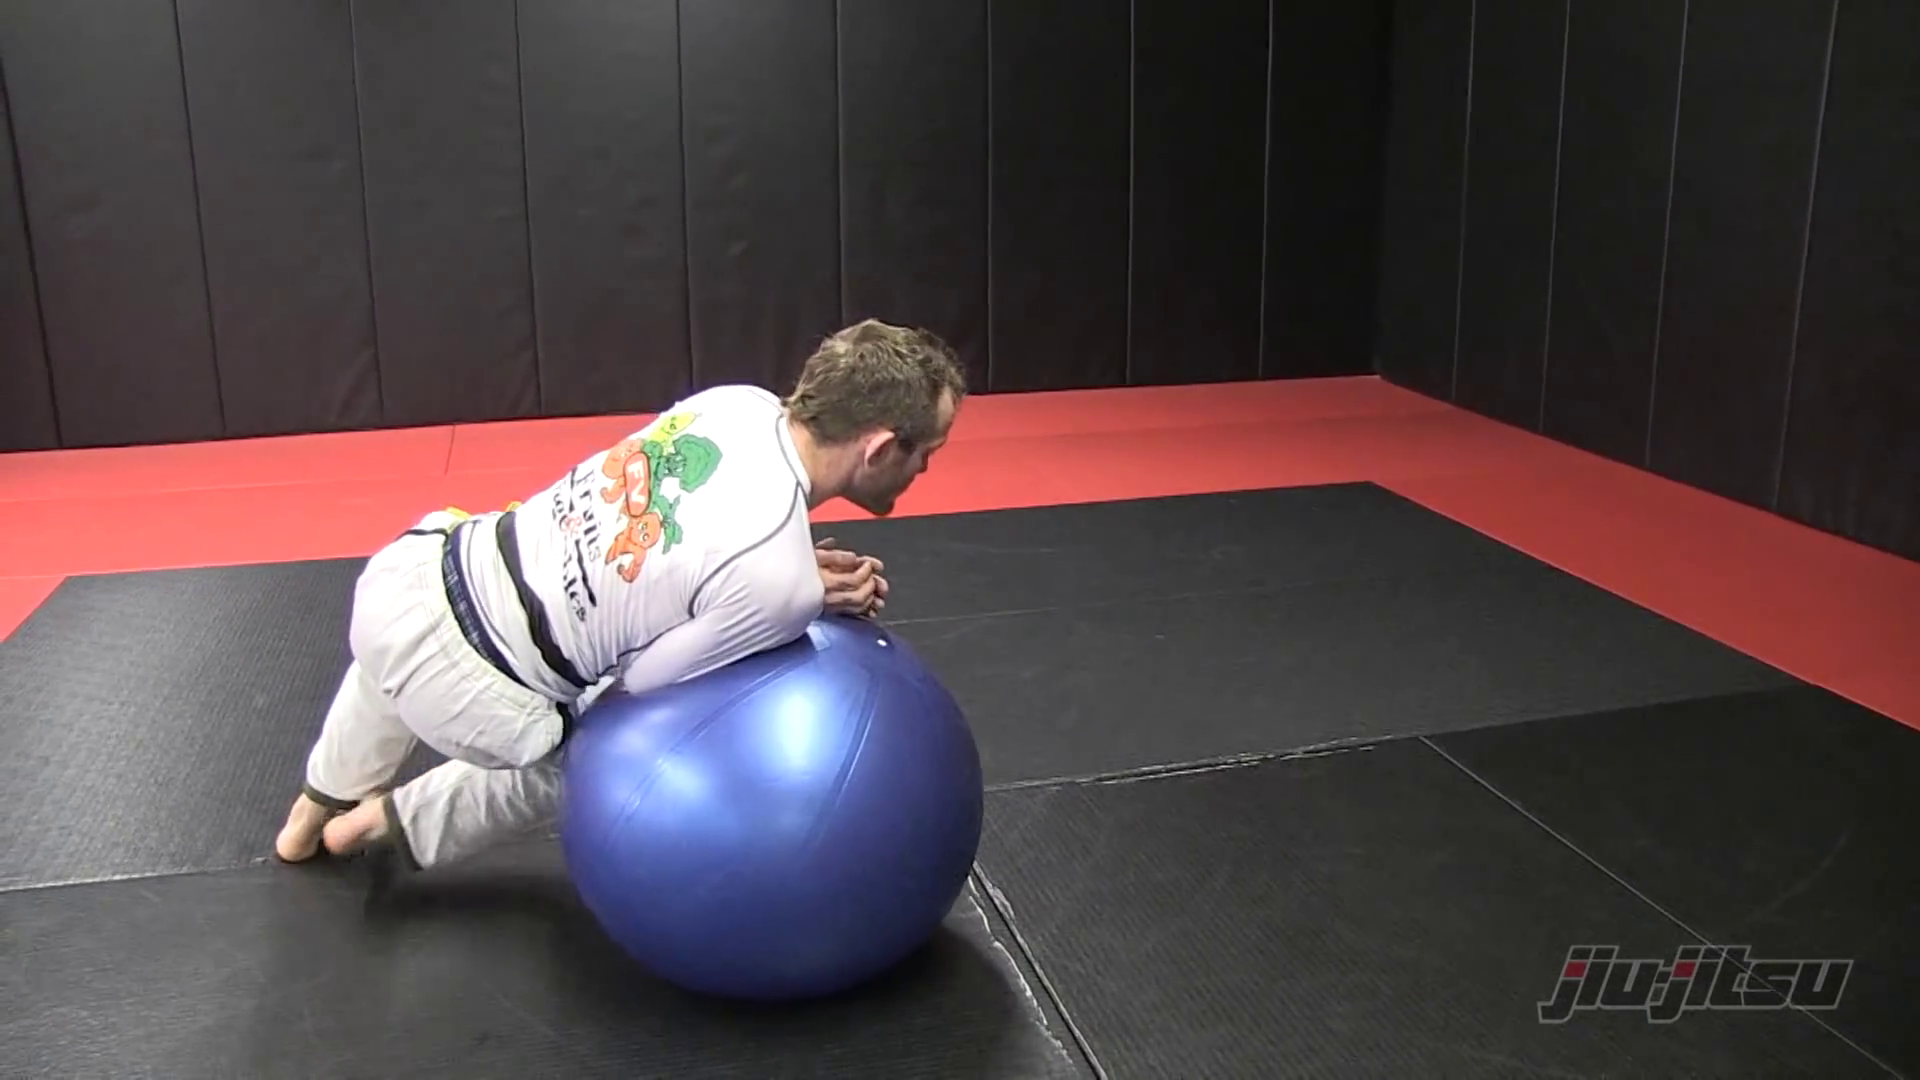yogaball: (543, 595, 1030, 1007)
